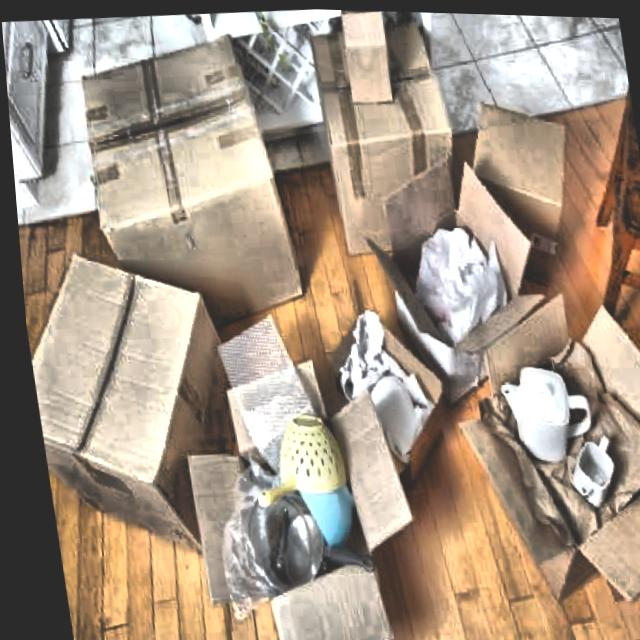Cardbox: (16, 233, 245, 557), (63, 20, 304, 326), (175, 358, 429, 640), (427, 288, 640, 614), (330, 139, 543, 387), (294, 7, 449, 265), (296, 282, 454, 471), (457, 85, 563, 268), (319, 7, 403, 108)
